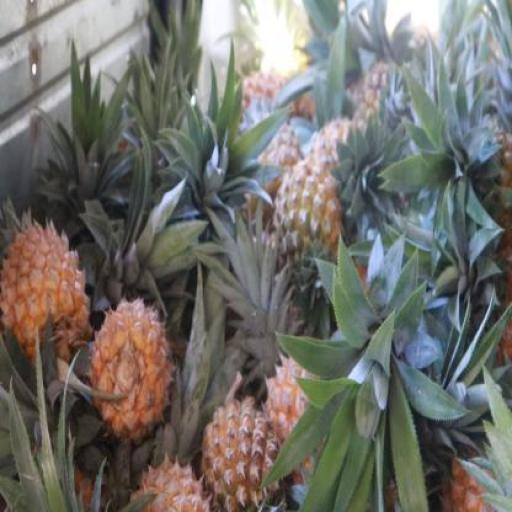Pineapple - v8 v1: (3, 225, 94, 372), (92, 300, 170, 434), (203, 399, 282, 511)
